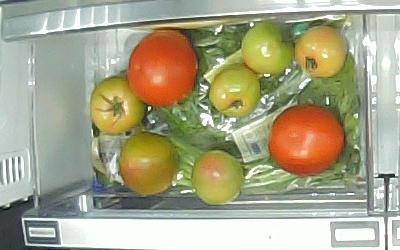tomato: (127, 30, 199, 107), (269, 104, 345, 175), (118, 133, 180, 196), (90, 76, 145, 134), (294, 25, 348, 78), (209, 63, 260, 118), (242, 22, 295, 74), (193, 150, 243, 204)
